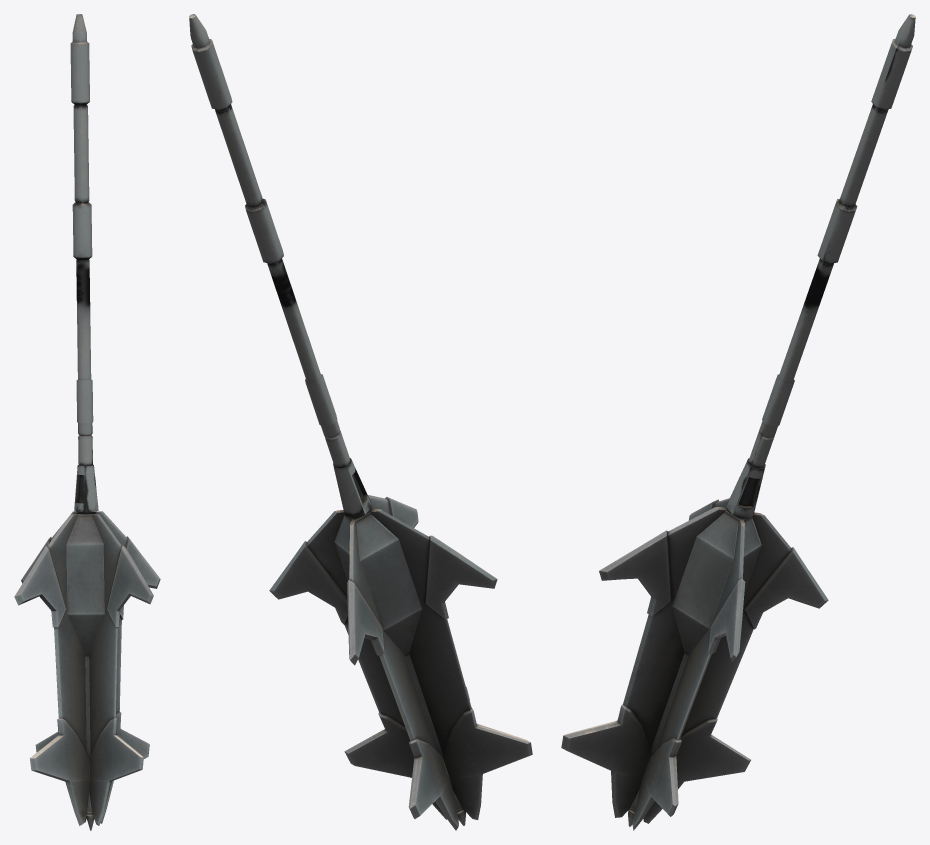
The model's file is gundamspear.glb.
3 renders of one model, left to right at view 1: azimuth 30°, elevation 25°; view 2: azimuth 150°, elevation 25°; view 3: azimuth 270°, elevation 25°, orthographic. The views are drawn at different scales.
Parts seen in each view (by area): view 1: Object_4; view 2: Object_4; view 3: Object_4.
Part boxes in pixels (x1,y1,x2,y2): Object_4: (14, 14, 160, 830); Object_4: (189, 14, 532, 830); Object_4: (561, 14, 915, 830).
Bounding box in the file's own units: 0.1395 × 0.5543 × 0.2038.
1 material, 1 textured.
